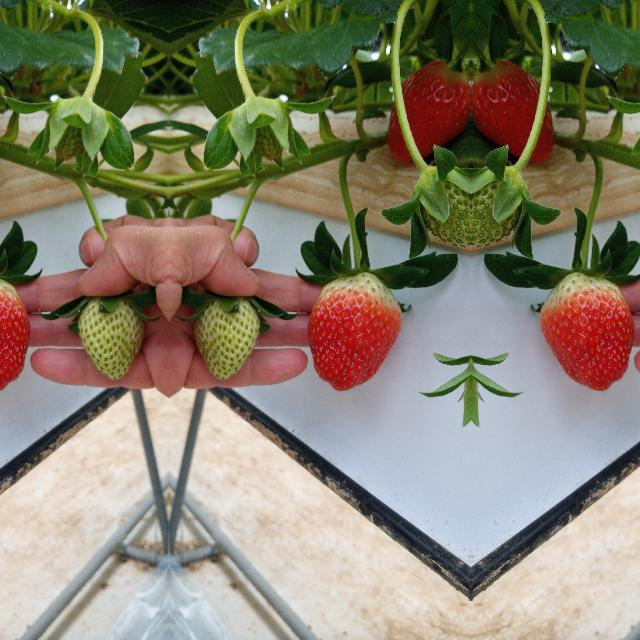Health_100: (307, 272, 401, 392), (540, 272, 634, 392), (0, 272, 29, 392)
Health_25: (182, 263, 266, 395), (70, 263, 154, 395)
